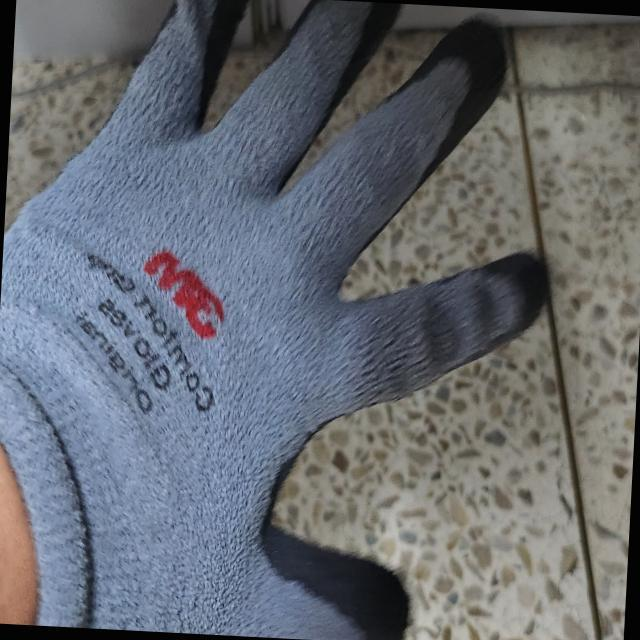Gloves: (13, 0, 544, 634)
